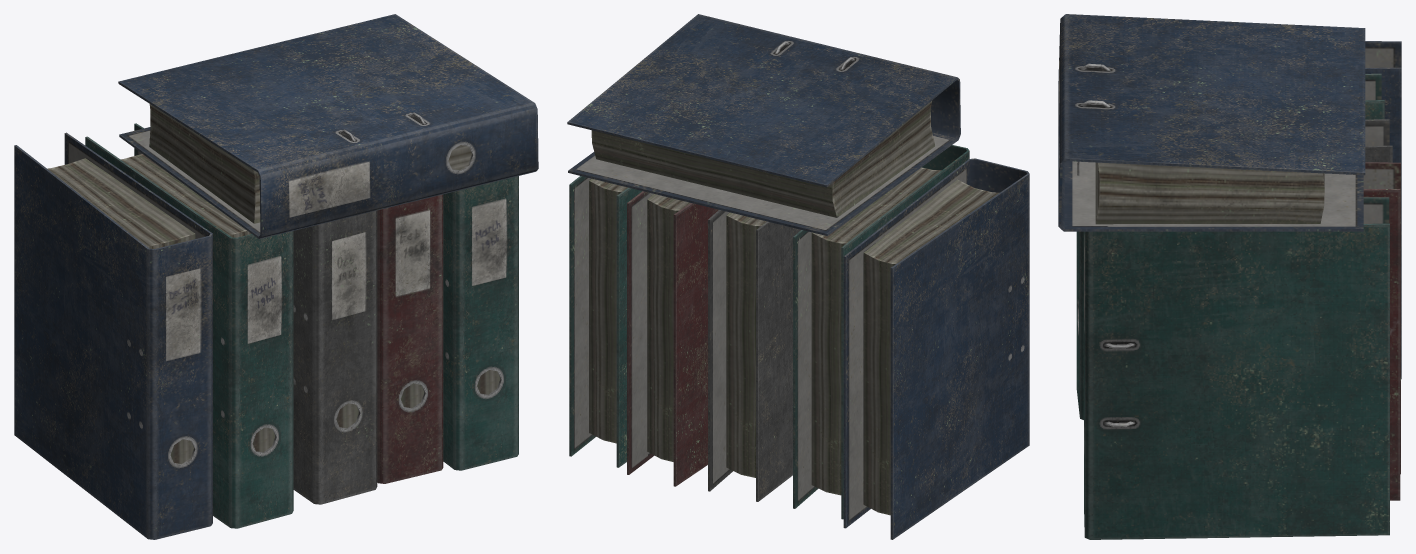
The model's file is FolderSet04.fbx.
3 views of the same model, side by side, from view 1: azimuth 30°, elevation 25°; view 2: azimuth 150°, elevation 25°; view 3: azimuth 270°, elevation 25° (orthographic). The views are drawn at different scales.
Visible parts, largest first — view 1: FolderSet04; view 2: FolderSet04; view 3: FolderSet04.
Boxes of the visible parts, left/top/right/bottom form: FolderSet04: left=14, top=14, right=538, bottom=539; FolderSet04: left=567, top=14, right=1029, bottom=539; FolderSet04: left=1058, top=14, right=1401, bottom=539.
Size of the model in its own units: 42.81 by 39.98 by 32.03.
